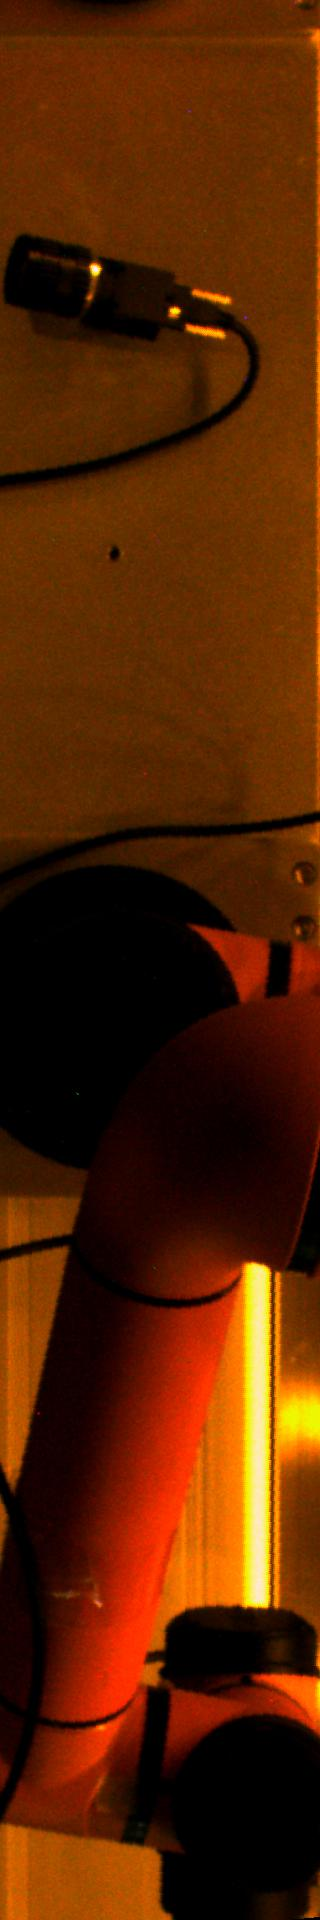keyPoint_2: (99, 540, 129, 571)
